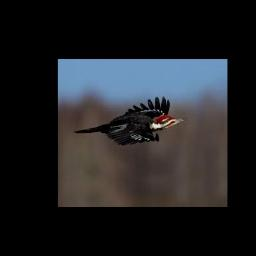Woodpecker: (74, 96, 188, 146)
